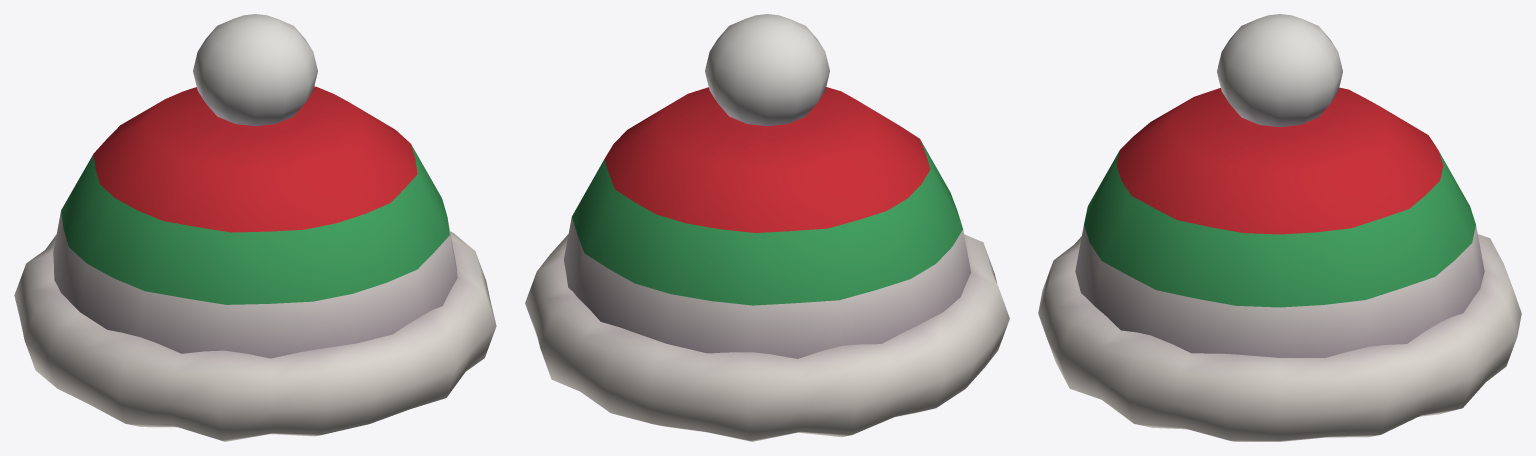
The model's file is hat_winter.glb.
The picture shows the model from 3 angles, left to right: view 1: azimuth 30°, elevation 25°; view 2: azimuth 150°, elevation 25°; view 3: azimuth 270°, elevation 25°; orthographic projection.
Parts seen in each view (by area): view 1: hat; view 2: hat; view 3: hat.
Boxes of the visible parts, bbox=[...] form: hat: bbox=[14, 14, 496, 441]; hat: bbox=[525, 14, 1009, 441]; hat: bbox=[1038, 14, 1521, 441].
Bounding box in the file's own units: 0.444 × 0.3444 × 0.444.
